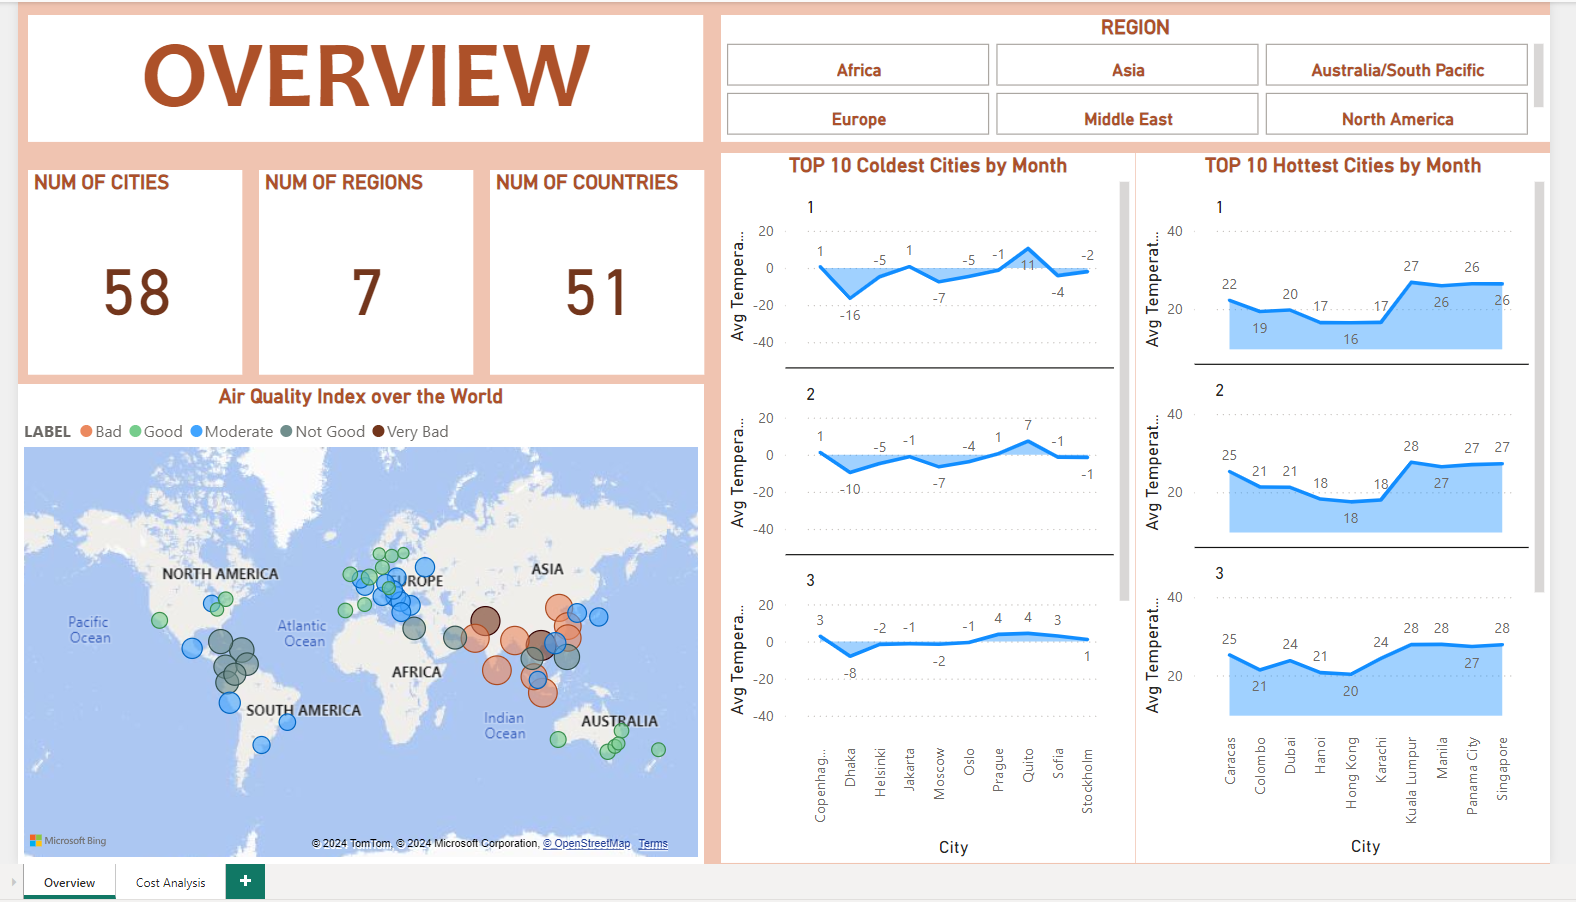

The dashboard page shown, as its layout file describes it:
{"tool":"powerbi","page":{"name":"Overview","canvas":[1280,720],"ordinal":0},"visuals":[{"type":"map","title":"Air Quality Index over the World","fields":{"Y":["dashboard.Lat"],"X":["dashboard.Lon"],"Series":["dashboard.air_quality_label"],"Size":["Avg(dashboard.Air_Quality_Index)"]},"box":[0,319,572.9,400.7],"z":0},{"type":"areaChart","title":"TOP 10 Hottest Cities by Month","fields":{"Rows":["dashboard.Month"],"Category":["dashboard.City"],"Y":["Avg(dashboard.AvgTemperature)"]},"box":[933.7,126.4,346.3,593.3],"z":1000},{"type":"advancedSlicerVisual","title":"REGION","fields":{"Values":["dashboard.Region"]},"box":[587.5,10.7,692.5,106],"z":2000},{"type":"areaChart","title":"TOP 10 Coldest Cities by Month","fields":{"Category":["dashboard.City"],"Rows":["dashboard.Month"],"Y":["Avg(dashboard.AvgTemperature)"]},"box":[587.5,126.4,346.3,593.3],"z":3000},{"type":"card","title":"NUM OF CITIES","fields":{"Values":["Count(dashboard.City)"]},"box":[8.8,140.1,179,171.2],"z":4000},{"type":"card","title":"NUM OF REGIONS","fields":{"Values":["Count(dashboard.Region)"]},"box":[201.3,140.1,179,171.2],"z":5000},{"type":"card","title":"NUM OF COUNTRIES","fields":{"Values":["Count(dashboard.Country)"]},"box":[393.9,140.1,179,171.2],"z":6000},{"type":"textbox","title":"OVERVIEW","box":[8.8,10.7,564.1,106],"z":7000}]}

Visuals, with their boxes on the page's 1280x720 design canvas (x1, y1, x2, y2). These are canvas units, not pixel positions in the 1576x902 screenshot, which may show the page scaled, cropped or inside an application window:
"Air Quality Index over the World" map: [x1=0, y1=319, x2=573, y2=720]
"TOP 10 Hottest Cities by Month" areaChart: [x1=934, y1=126, x2=1280, y2=720]
"REGION" advancedSlicerVisual: [x1=588, y1=11, x2=1280, y2=117]
"TOP 10 Coldest Cities by Month" areaChart: [x1=588, y1=126, x2=934, y2=720]
"NUM OF CITIES" card: [x1=9, y1=140, x2=188, y2=311]
"NUM OF REGIONS" card: [x1=201, y1=140, x2=380, y2=311]
"NUM OF COUNTRIES" card: [x1=394, y1=140, x2=573, y2=311]
"OVERVIEW" textbox: [x1=9, y1=11, x2=573, y2=117]
